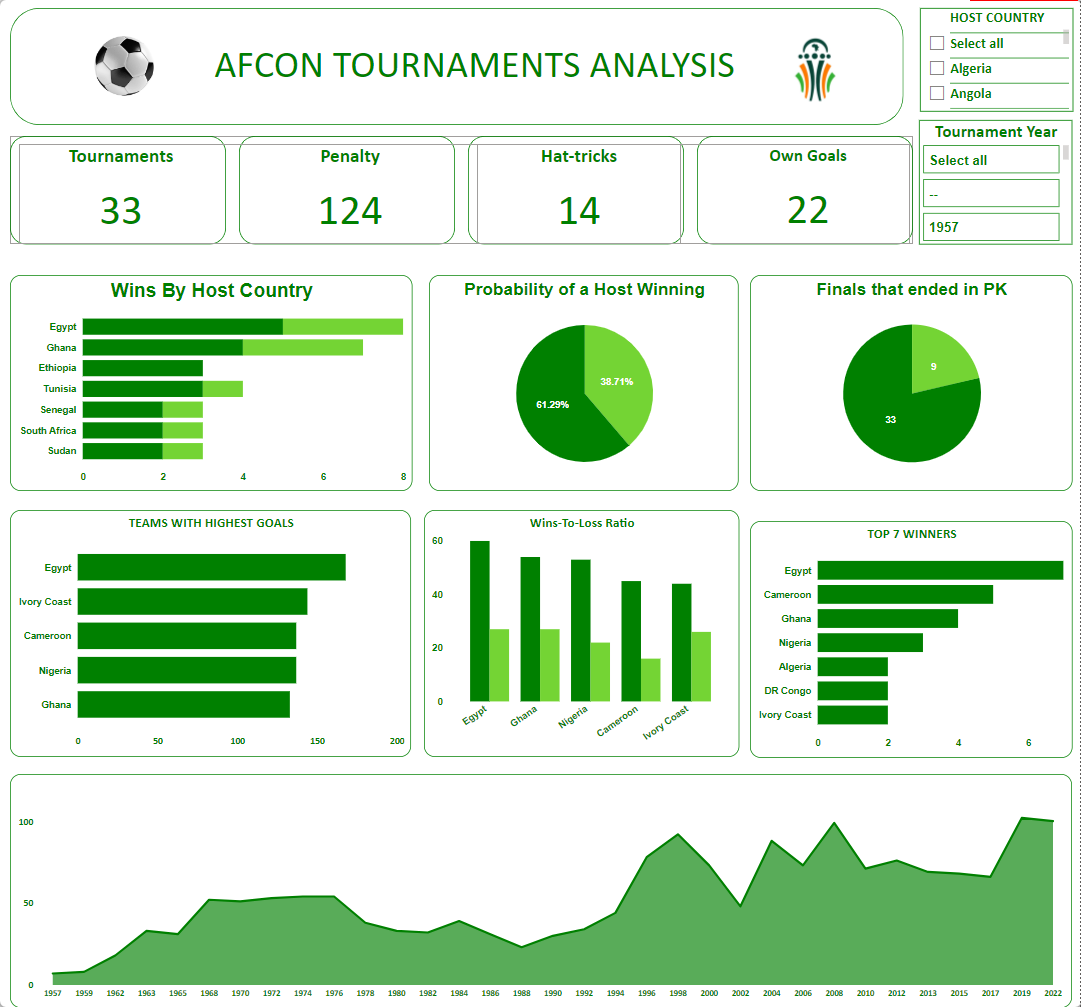

The dashboard page shown, as its layout file describes it:
{"tool":"powerbi","page":{"name":"Page 2","canvas":[1500,1400],"ordinal":1},"visuals":[{"type":"shape","box":[14.3,10.7,1241.1,162.5],"z":0,"group":"g5"},{"type":"textbox","box":[243.1,16.4,832.1,153.6],"z":0,"group":"g1"},{"type":"advancedSlicerVisual","title":"Tournament Year","fields":{"Values":["AFCON PODIUM FINISHES.EDITIONS"]},"box":[1276.8,166.1,212.5,173.2],"z":0},{"type":"shape","box":[332.4,189.3,300,150.6],"z":0,"group":"g2"},{"type":"card","title":"Tournaments","fields":{"Values":["Measure Table.TotalEditions"]},"box":[26.8,200,283.5,139.2],"z":0,"group":"g4"},{"type":"slicer","title":"HOST COUNTRY","fields":{"Values":["AFCON PODIUM FINISHES.HOSTS"]},"box":[1277.2,11.4,212.7,144.3],"z":1000},{"type":"group","id":"g1","title":"Header","box":[93.1,16.4,1132.1,153.6],"z":1000,"group":"g5"},{"type":"image","box":[93.1,28,160.7,130.4],"z":1000,"group":"g1"},{"type":"group","id":"g2","title":"Group 1","box":[14.3,189.3,1253.6,150],"z":1000,"group":"g3"},{"type":"shape","box":[650.6,189.3,300,150.6],"z":1000,"group":"g2"},{"type":"card","title":" Hat-tricks","fields":{"Values":["Max(NUMBER OF HATRICKS.TOTAL)"]},"box":[662.2,200,283.5,139.2],"z":1000,"group":"g4"},{"type":"image","box":[1041.3,25.3,183.9,135.7],"z":2000,"group":"g1"},{"type":"group","id":"g3","title":"Group 2","box":[14.3,189.3,1253.6,150],"z":2000},{"type":"shape","box":[14.3,189.3,300,150.6],"z":2000,"group":"g2"},{"type":"group","id":"g4","title":"KPIs","box":[26.8,200,1237.5,139.3],"z":2000,"group":"g3"},{"type":"card","title":"Penalty ","fields":{"Values":["Max(NUMBER OF PENALTY GOALS BY YEAR.TOTAL)"]},"box":[344.5,200,283.5,139.2],"z":2000,"group":"g4"},{"type":"group","id":"g5","title":"Group 3","box":[14.3,10.7,1241.1,162.5],"z":3000},{"type":"shape","box":[968.7,189.3,300,150.6],"z":3000,"group":"g2"},{"type":"card","title":"Own Goals ","fields":{"Values":["Max(AFCON OWN GOALS.TOTAL)"]},"box":[981.2,200,283.5,139.2],"z":3000,"group":"g4"},{"type":"barChart","title":"Wins By Host Country","fields":{"Category":["GroupByHost.HOSTS"],"Y":["Sum(GroupByHost.No. of times host)","Measure Table.Number of Wins By Host"]},"box":[14.3,382.1,558.9,300],"z":4000},{"type":"pieChart","title":"Probability of a Host Winning","fields":{"Y":["Measure Table.Number of Wins By Host","Measure Table.Unique Host"]},"box":[596.4,382.1,430.4,300],"z":5000},{"type":"pieChart","title":"Finals that ended in PK","fields":{"Y":["Measure Table.Final PK finishes","Measure Table.Total Finals Played"]},"box":[1041.1,382.1,448.2,300],"z":6000},{"type":"clusteredBarChart","title":"TEAMS WITH HIGHEST GOALS","fields":{"Category":["CountriesAndGoals.COUNTRIES/EDITIONS"],"Y":["Sum(CountriesAndGoals.TOTAL)"]},"box":[14.3,708.9,557.1,342.9],"z":7000},{"type":"clusteredBarChart","title":"TOP 7 WINNERS","fields":{"Category":["AFCON PODIUM FINISHES.WINNERS"],"Y":["CountNonNull(AFCON PODIUM FINISHES.WINNERS)"]},"box":[1041.1,723.2,448.2,328.6],"z":8000},{"type":"clusteredColumnChart","title":"Wins-To-Loss Ratio","fields":{"Category":["AFCON BY COUNTRY.TEAM"],"Y":["Sum(AFCON BY COUNTRY.WINS)","Sum(AFCON BY COUNTRY.LOSSES)"]},"box":[589.3,708.9,437.5,342.9],"z":9000},{"type":"areaChart","title":"Evolution of Total Goals Scored Across Tournament Editions","fields":{"Category":["Year and Goals scored.Year"],"Y":["Sum(Year and Goals scored.Goals)"]},"box":[14.3,1075,1475,325],"z":10000}]}

Visuals, with their boxes in screenshot pixels (x1, y1, x2, y2), scaled from the page's 1500x1400 canvas onto the 1081x1007 screenshot:
shape: detection(10, 8, 905, 125)
textbox: detection(175, 12, 775, 122)
"Tournament Year" advancedSlicerVisual: detection(920, 119, 1073, 244)
shape: detection(240, 136, 456, 244)
"Tournaments" card: detection(19, 144, 224, 244)
"HOST COUNTRY" slicer: detection(920, 8, 1074, 112)
"Header" group: detection(67, 12, 883, 122)
image: detection(67, 20, 183, 114)
"Group 1" group: detection(10, 136, 914, 244)
shape: detection(469, 136, 685, 244)
" Hat-tricks" card: detection(477, 144, 682, 244)
image: detection(750, 18, 883, 116)
"Group 2" group: detection(10, 136, 914, 244)
shape: detection(10, 136, 227, 244)
"KPIs" group: detection(19, 144, 911, 244)
"Penalty " card: detection(248, 144, 453, 244)
"Group 3" group: detection(10, 8, 905, 125)
shape: detection(698, 136, 914, 244)
"Own Goals " card: detection(707, 144, 911, 244)
"Wins By Host Country" barChart: detection(10, 275, 413, 491)
"Probability of a Host Winning" pieChart: detection(430, 275, 740, 491)
"Finals that ended in PK" pieChart: detection(750, 275, 1073, 491)
"TEAMS WITH HIGHEST GOALS" clusteredBarChart: detection(10, 510, 412, 757)
"TOP 7 WINNERS" clusteredBarChart: detection(750, 520, 1073, 757)
"Wins-To-Loss Ratio" clusteredColumnChart: detection(425, 510, 740, 757)
"Evolution of Total Goals Scored Across Tournament Editions" areaChart: detection(10, 773, 1073, 1006)
